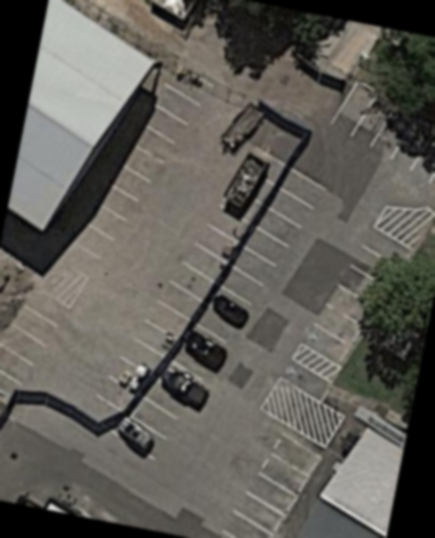parkingspot: (91, 164, 331, 462), (58, 60, 217, 264), (116, 201, 253, 376), (298, 222, 415, 368), (216, 426, 326, 538), (327, 78, 435, 187), (0, 282, 73, 389), (275, 355, 334, 404)
